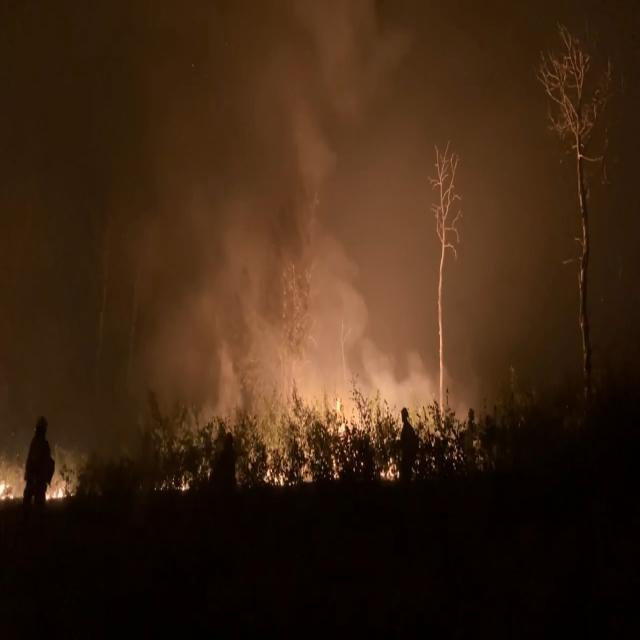Fire: (172, 396, 462, 484)
